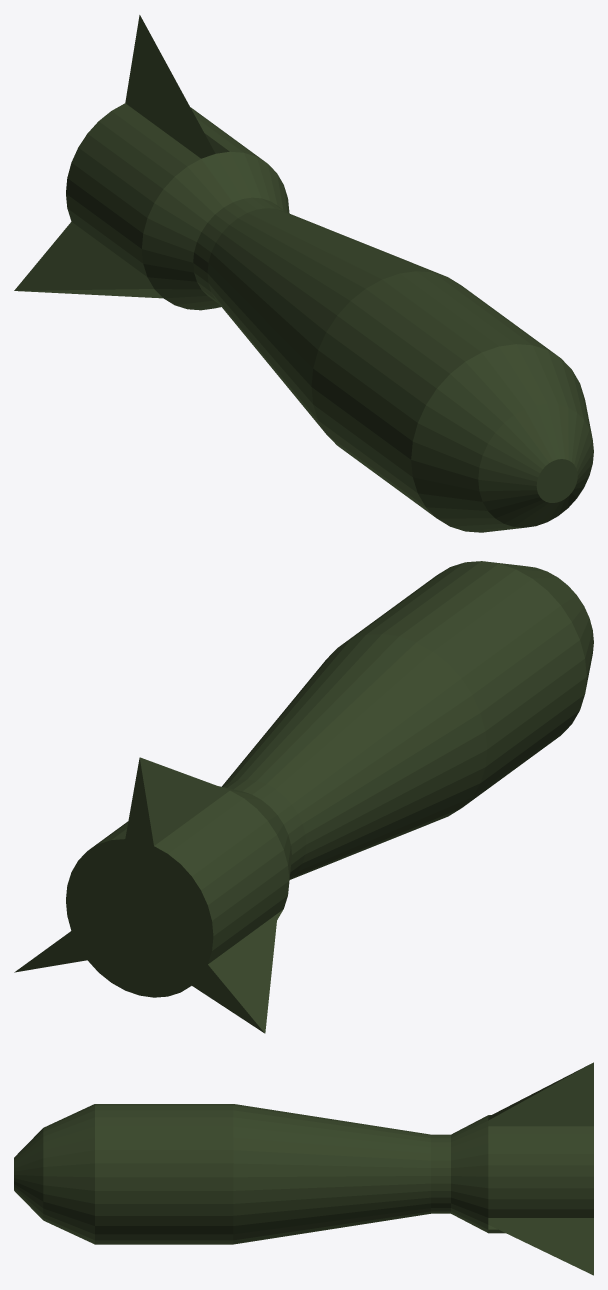
Rendered from dynamind bazooka rocket.fbx.
3 renders of one model, top to bottom at view 1: azimuth 30°, elevation 25°; view 2: azimuth 150°, elevation 25°; view 3: azimuth 270°, elevation 25°, orthographic. The views are drawn at different scales.
Visible parts, largest first — view 1: rocket; view 2: rocket; view 3: rocket.
Boxes of the visible parts, x1,y1,x2,y2 form: rocket: (14, 15, 593, 532); rocket: (14, 561, 593, 1033); rocket: (14, 1062, 593, 1275).
Size of the model in its own units: 10.74 by 10.33 by 30.9.
